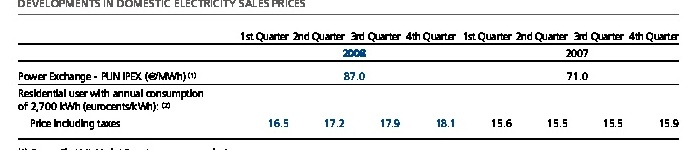table: (0, 0, 699, 150)
